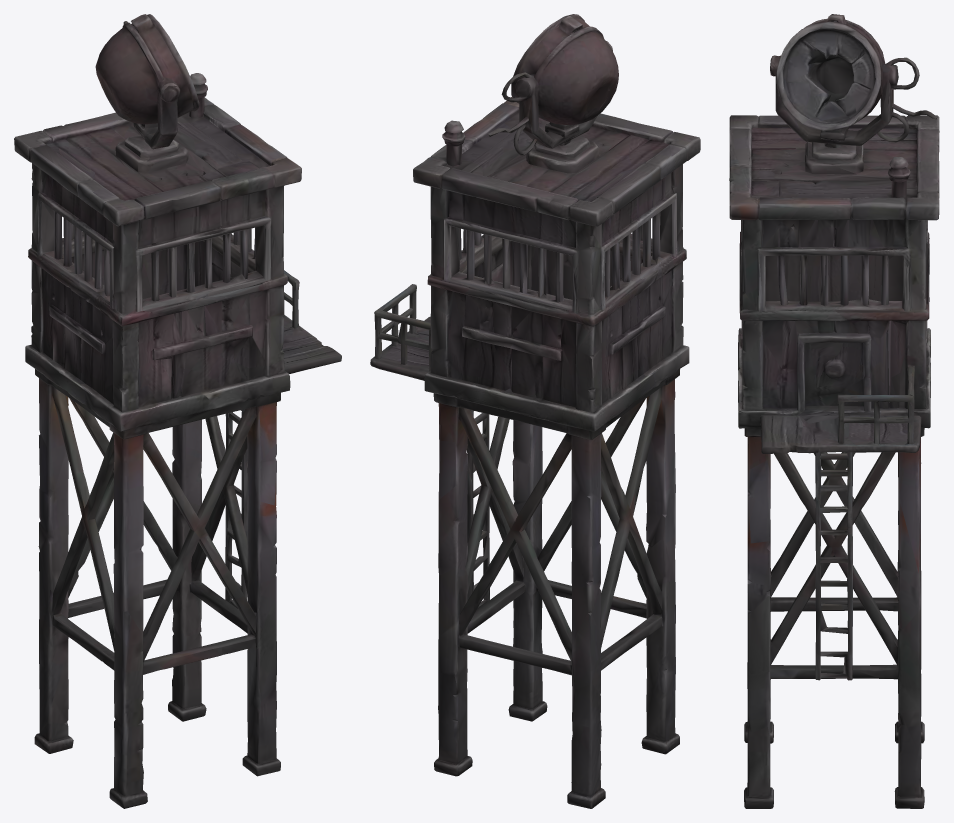
File: prison_watchtower_idle.glb
3 views of the same model, side by side, from view 1: azimuth 30°, elevation 25°; view 2: azimuth 150°, elevation 25°; view 3: azimuth 270°, elevation 25° (orthographic).
Visible parts, largest first — view 1: tripo_node_26498b8d-e36e-4298-9e7e-f0dc0a247890; view 2: tripo_node_26498b8d-e36e-4298-9e7e-f0dc0a247890; view 3: tripo_node_26498b8d-e36e-4298-9e7e-f0dc0a247890.
Part boxes in pixels (x1=…): tripo_node_26498b8d-e36e-4298-9e7e-f0dc0a247890: x1=14, y1=14, x2=341, y2=808; tripo_node_26498b8d-e36e-4298-9e7e-f0dc0a247890: x1=370, y1=14, x2=700, y2=808; tripo_node_26498b8d-e36e-4298-9e7e-f0dc0a247890: x1=729, y1=14, x2=939, y2=808.
Size of the model in its own units: 3.06 by 9 by 2.28.
1 material, 1 textured.
